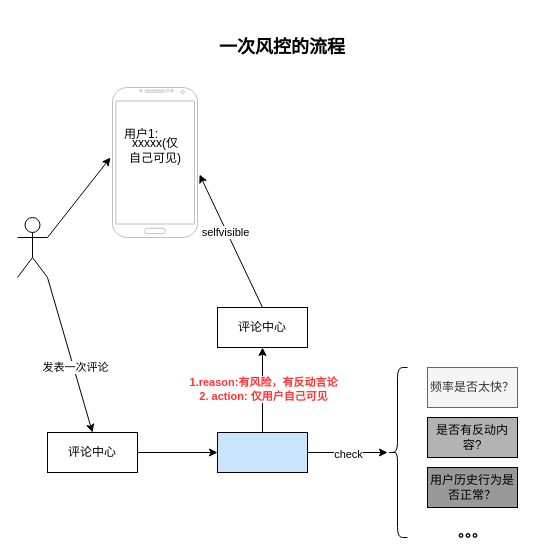
This 535x559 diagram has some shape labels left out. Each missing label, with the centre of its shape:
"用户" goes at point (32, 247).
"风控" goes at point (262, 452).
